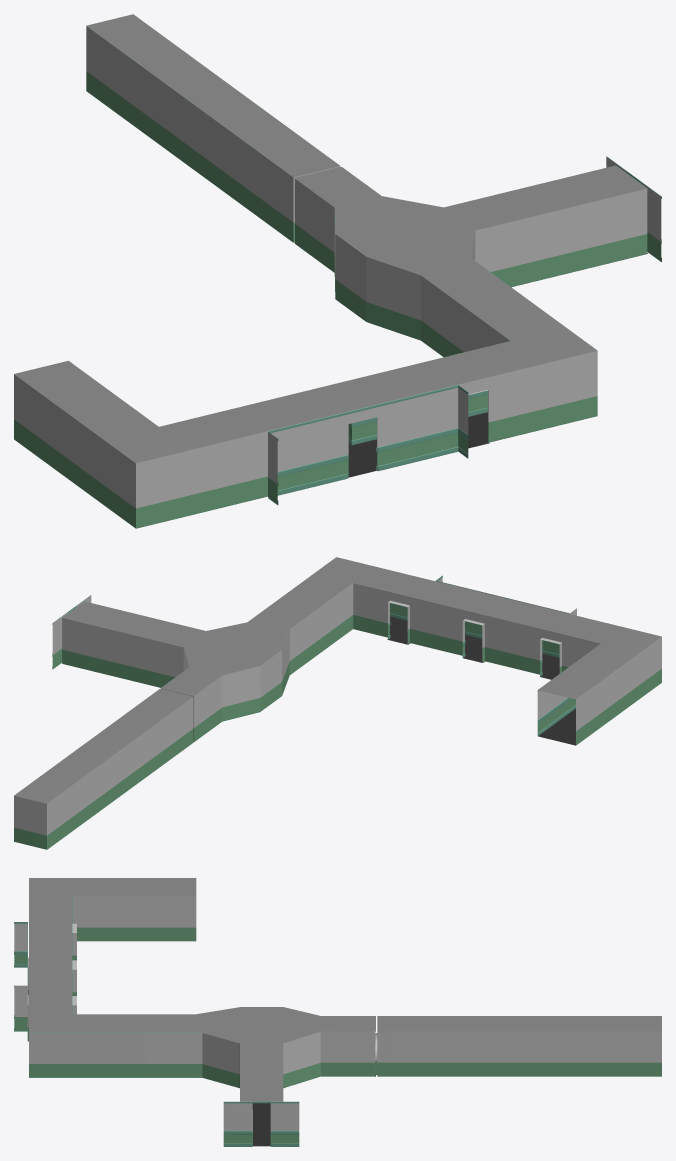
File: couloir_hopital_zoe.fbx
The picture shows the model from 3 angles, top to bottom: view 1: azimuth 30°, elevation 25°; view 2: azimuth 150°, elevation 25°; view 3: azimuth 270°, elevation 25°; orthographic projection. The views are drawn at different scales.
Parts seen in each view (by area): view 1: murs, plafond, sol; view 2: murs, plafond, sol; view 3: murs, plafond, sol.
Part boxes in pixels (box(x1,y1,x2,y2)): murs: box(14, 14, 661, 528); plafond: box(14, 14, 646, 462); sol: box(139, 242, 647, 527); murs: box(14, 558, 661, 849); plafond: box(14, 557, 661, 803); sol: box(62, 616, 575, 745); murs: box(14, 896, 661, 1146); plafond: box(29, 878, 661, 1101); sol: box(28, 1041, 376, 1146).
Bounding box in the file's own units: 42.68 × 4.07 × 52.2.
